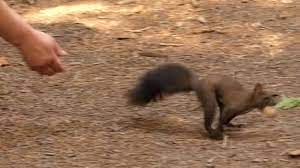squirrel: (127, 63, 284, 135)
